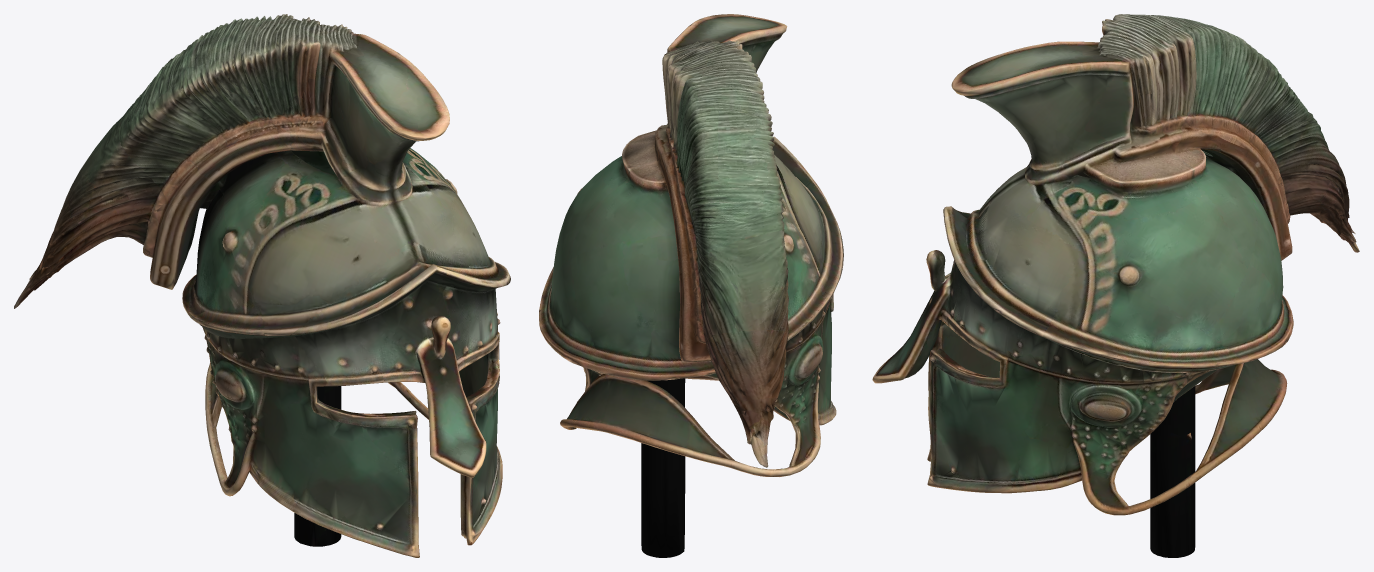
Rendered from galea_murmillo.glb.
3 renders of one model, left to right at view 1: azimuth 30°, elevation 25°; view 2: azimuth 150°, elevation 25°; view 3: azimuth 270°, elevation 25°, orthographic. The views are drawn at different scales.
Bounding box in the file's own units: 1.29 × 1.9 × 1.65.
Materials: 1 (1 with a texture image).
